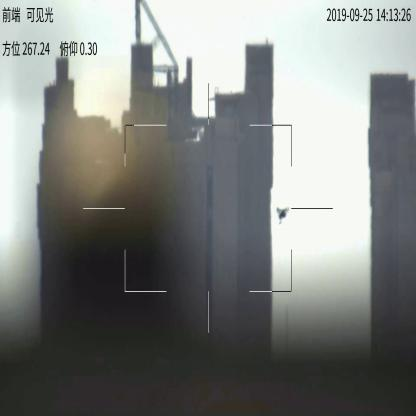uav: (274, 206, 292, 226)
